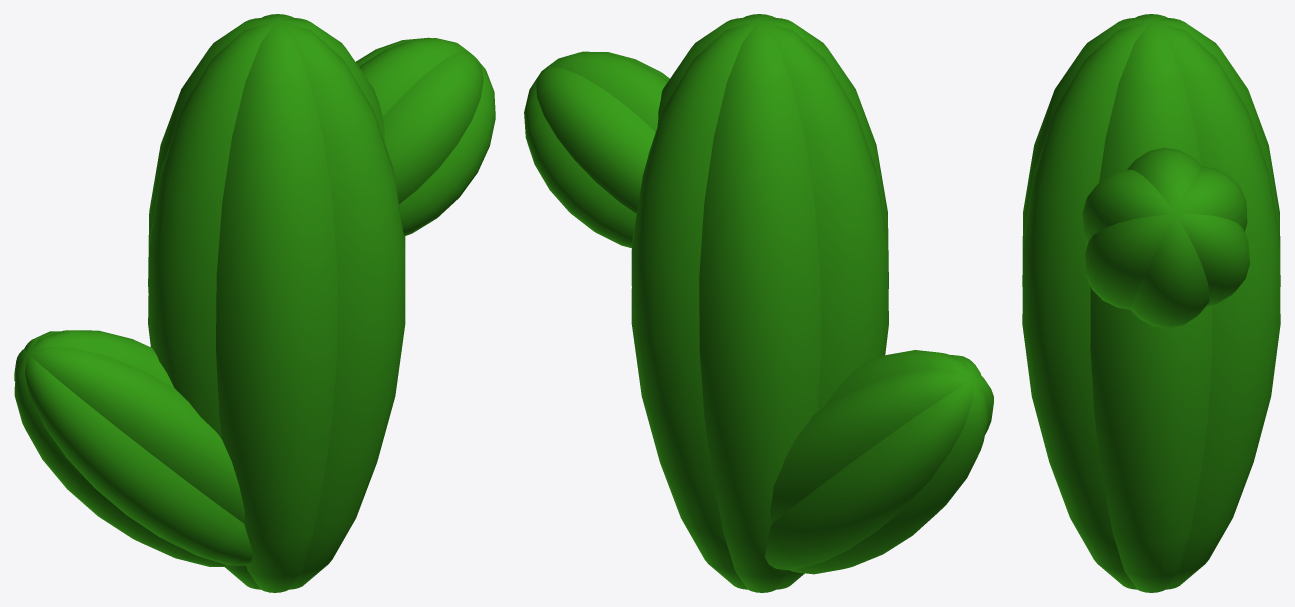
File: Cacti B.dae
3 renders of one model, left to right at view 1: azimuth 30°, elevation 25°; view 2: azimuth 150°, elevation 25°; view 3: azimuth 270°, elevation 25°, orthographic.
Visible parts, largest first — view 1: Sphere; view 2: Sphere; view 3: Sphere.
Boxes of the visible parts, left/top/right/bottom form: Sphere: left=14, top=14, right=495, bottom=592; Sphere: left=524, top=14, right=993, bottom=592; Sphere: left=1022, top=14, right=1280, bottom=592.
Size of the model in its own units: 20.1 by 23.71 by 9.73.
1 material, 1 textured.
